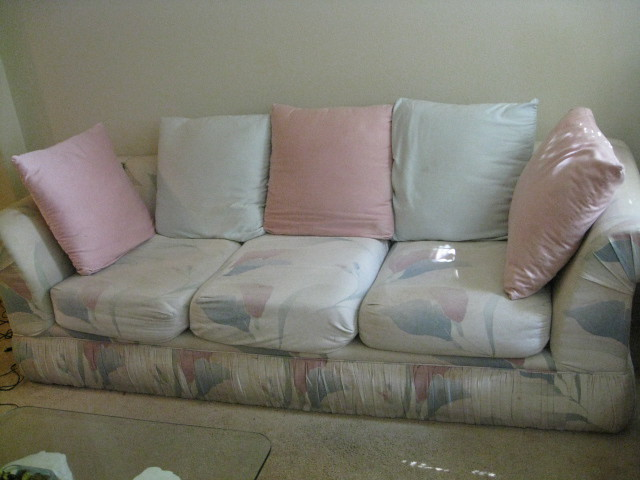sofa: (2, 66, 640, 435)
